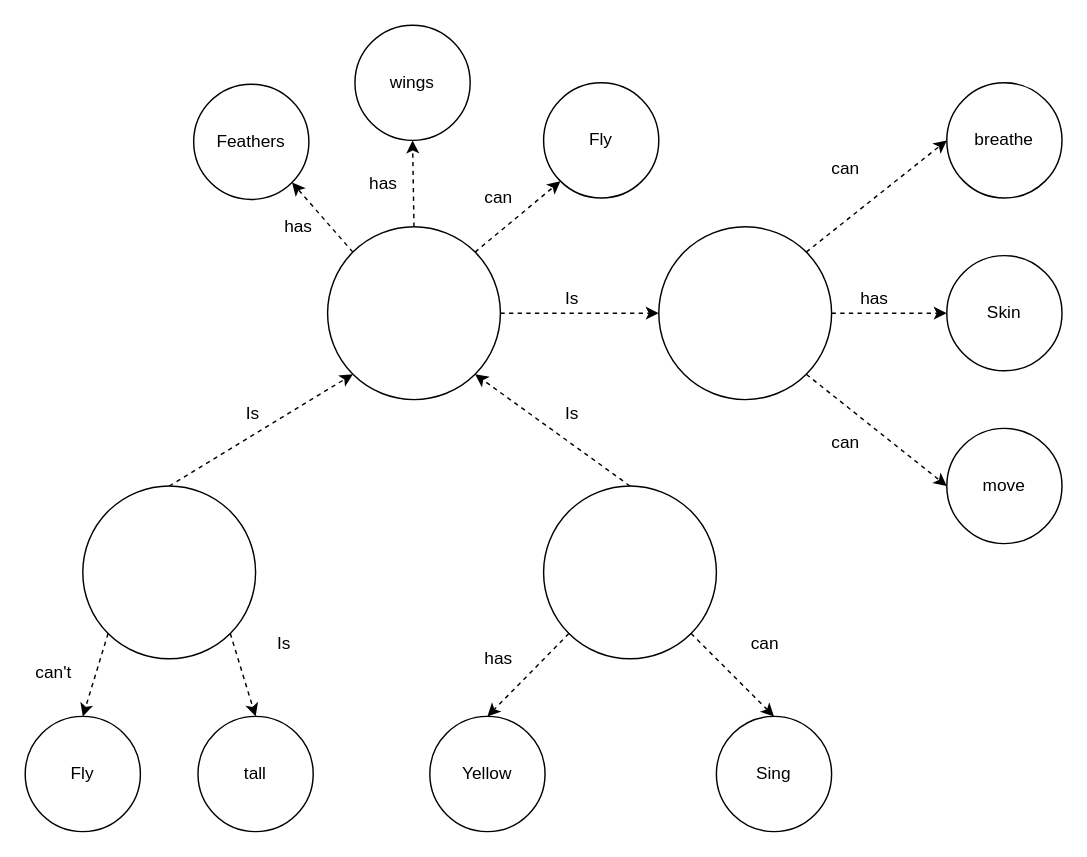
The diagram is 1087 pixels wide and 857 high, and some of its shapes have lost their labels. Each missing label, with the centre of its shape:
"Animal" goes at point 744,312.
"Bird" goes at point 413,312.
"Canary" goes at point 629,572.
"Ostrich" goes at point 168,572.
